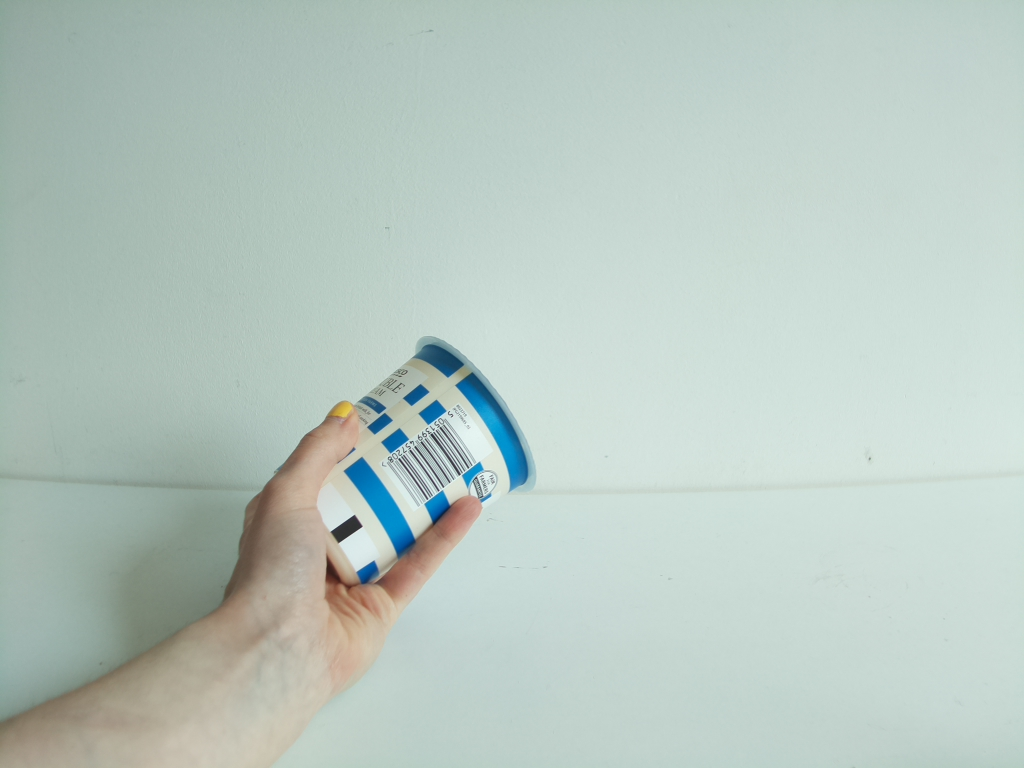cream: (326, 333, 538, 589)
